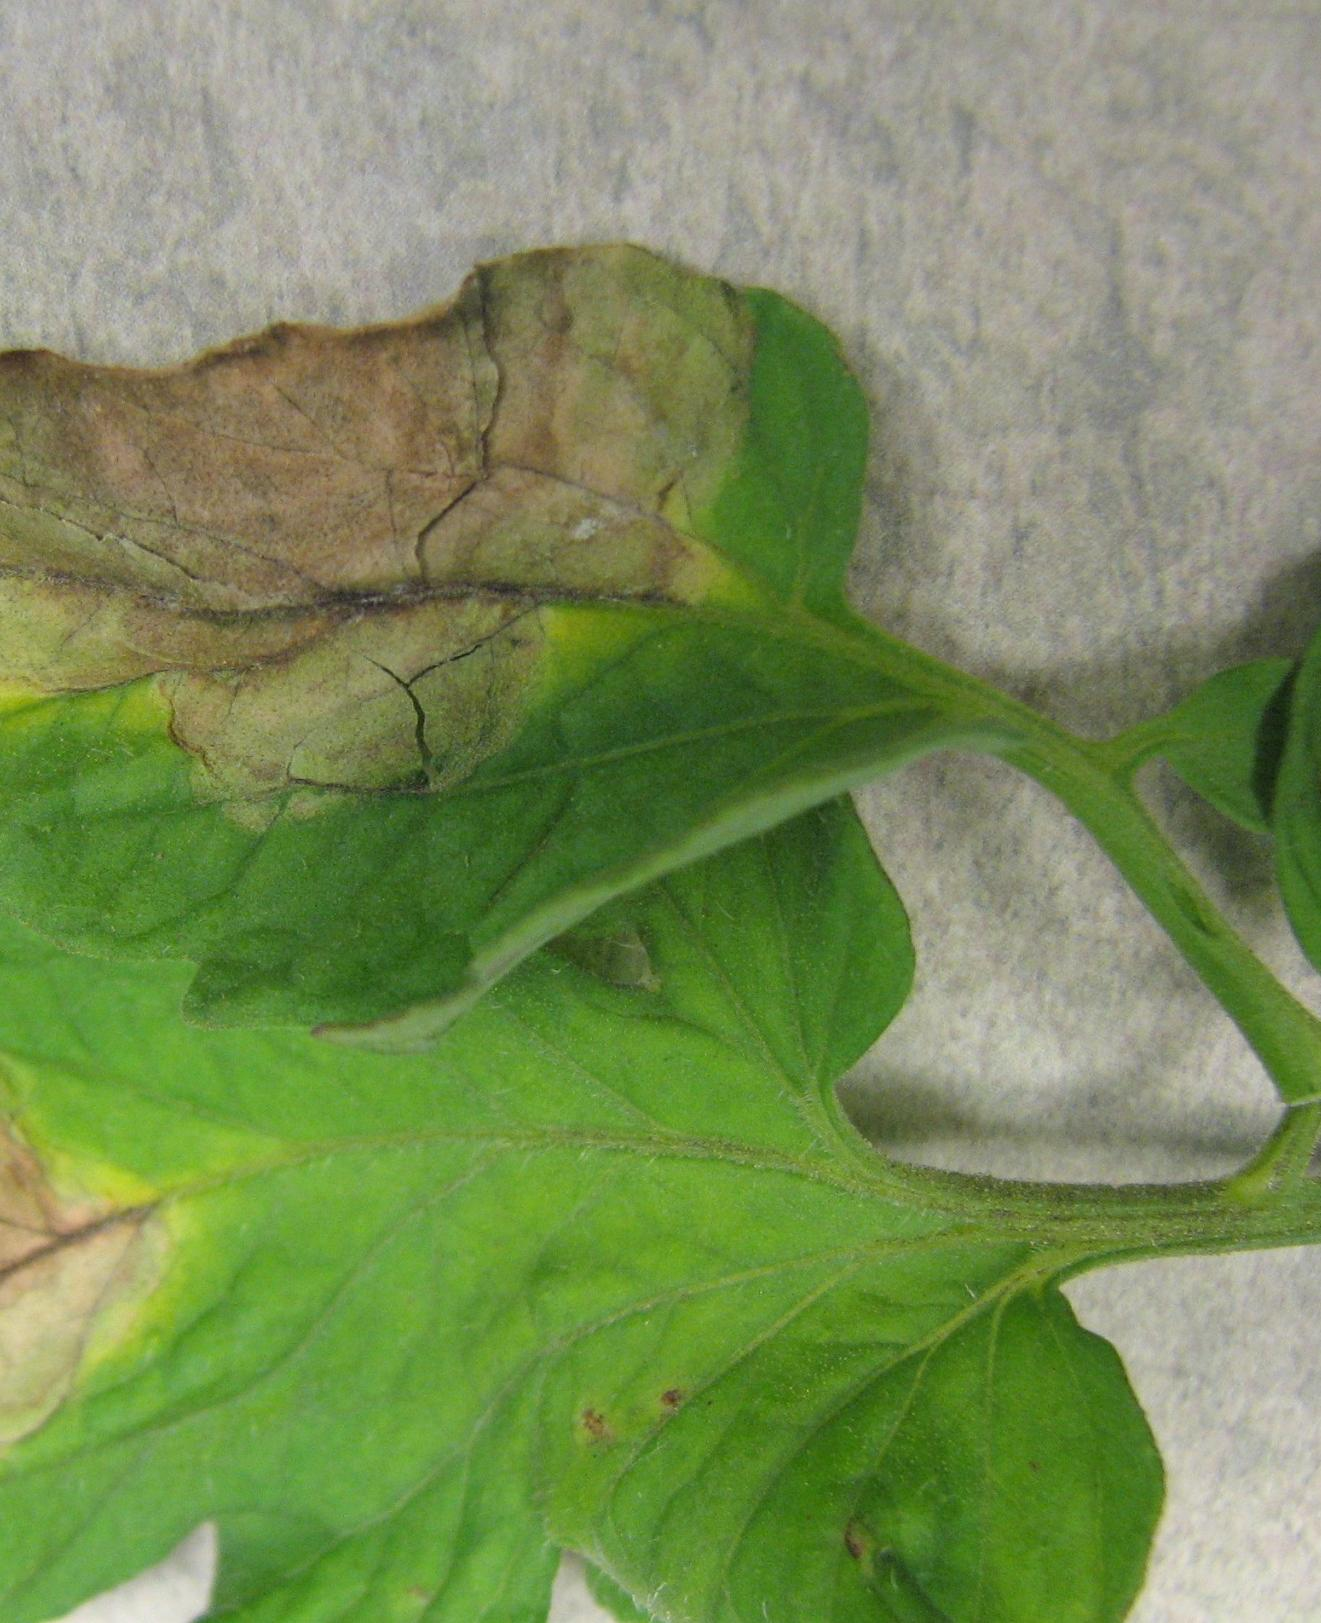Tomato leaf late blight: (0, 910, 1217, 1623), (0, 189, 983, 1029)
